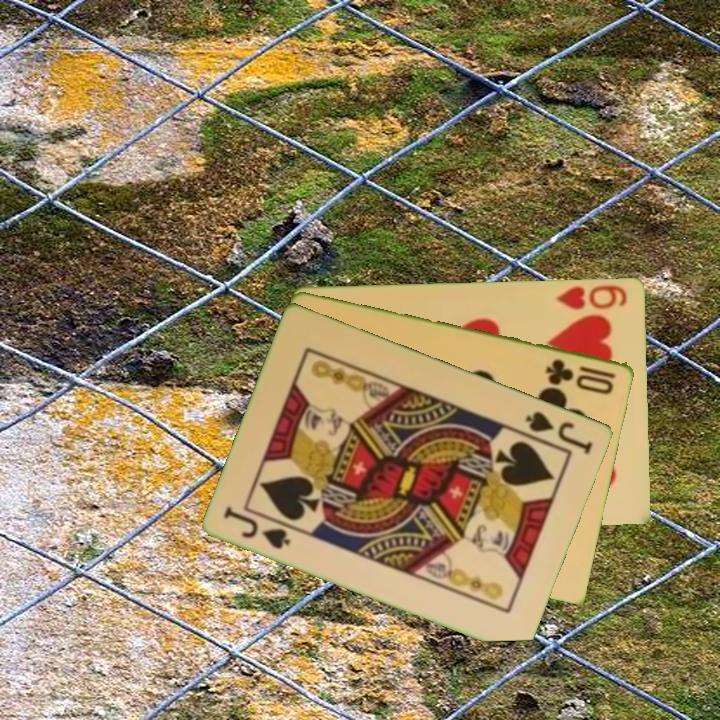10c: (542, 355, 620, 397)
6h: (553, 281, 630, 312)
Js: (522, 407, 597, 457), (220, 502, 294, 552)
